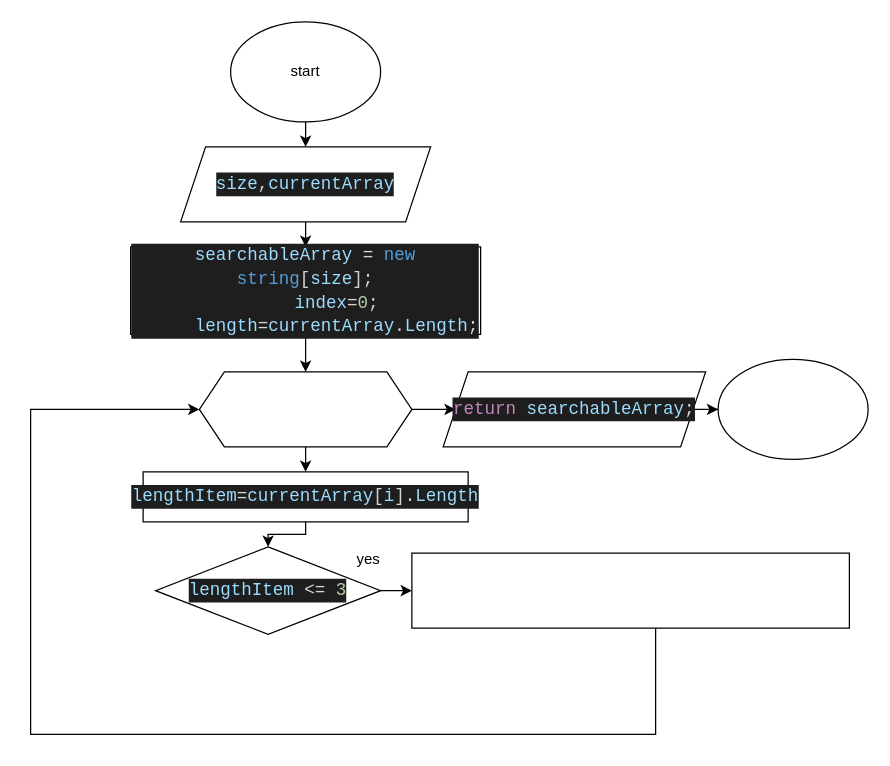
Image size: 890x766. Some labels were removed from this diagram. Each missing label, with the centre of its shape:
"end" goes at point (792, 408).
"i , 0, length, 1" goes at point (305, 409).
"searchableArray [ index ] = currentArray [ i ]; index ++;" goes at point (630, 590).
